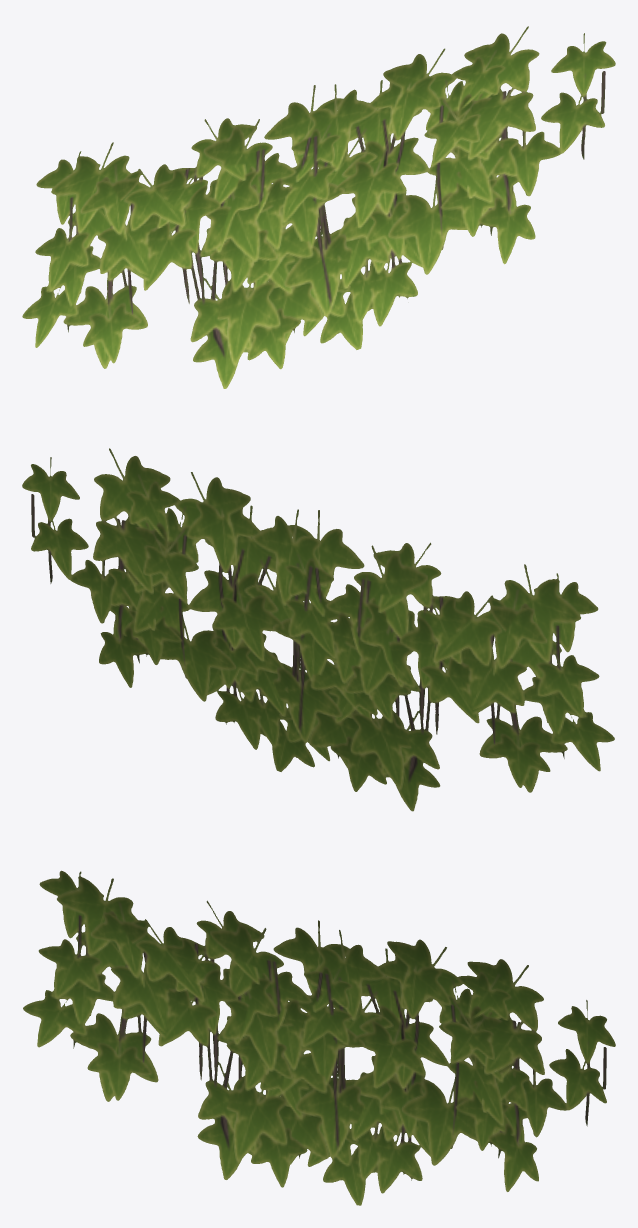
File: SM_ivy_assembly_very_small.fbx
3 renders of one model, top to bottom at view 1: azimuth 30°, elevation 25°; view 2: azimuth 150°, elevation 25°; view 3: azimuth 330°, elevation 25°, orthographic.
Visible parts, largest first — view 1: SM_ivy_assembly_very_small; view 2: SM_ivy_assembly_very_small; view 3: SM_ivy_assembly_very_small.
Boxes of the visible parts, x1,y1,x2,y2 form: SM_ivy_assembly_very_small: [22, 26, 615, 388]; SM_ivy_assembly_very_small: [22, 448, 614, 811]; SM_ivy_assembly_very_small: [23, 870, 615, 1205].
Size of the model in its own units: 42.72 by 21.14 by 1.26.
